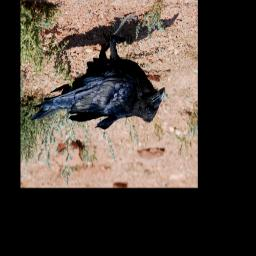Crow: (28, 11, 166, 131)
